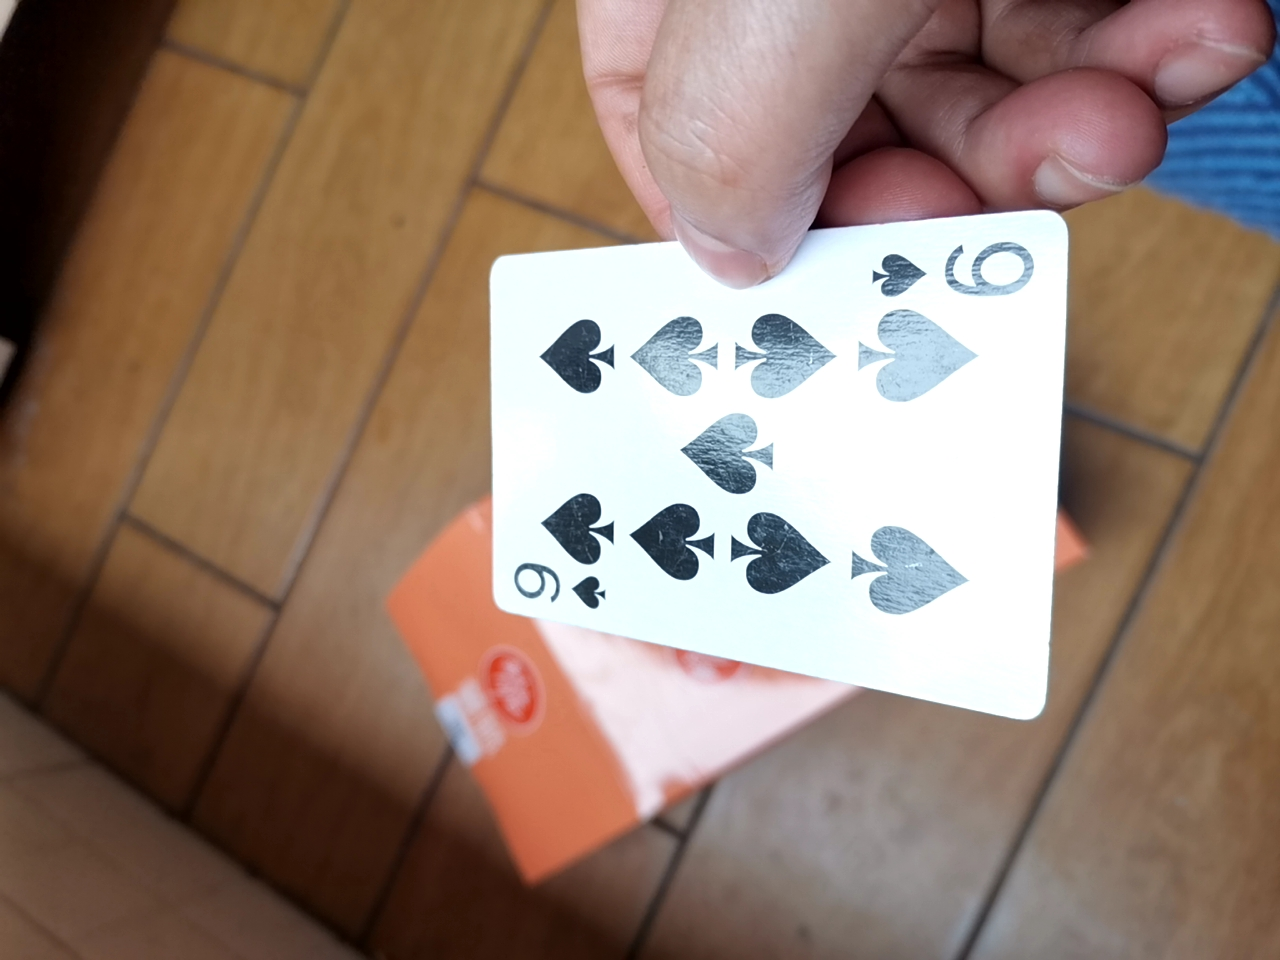ht 9: (469, 202, 1062, 731)
